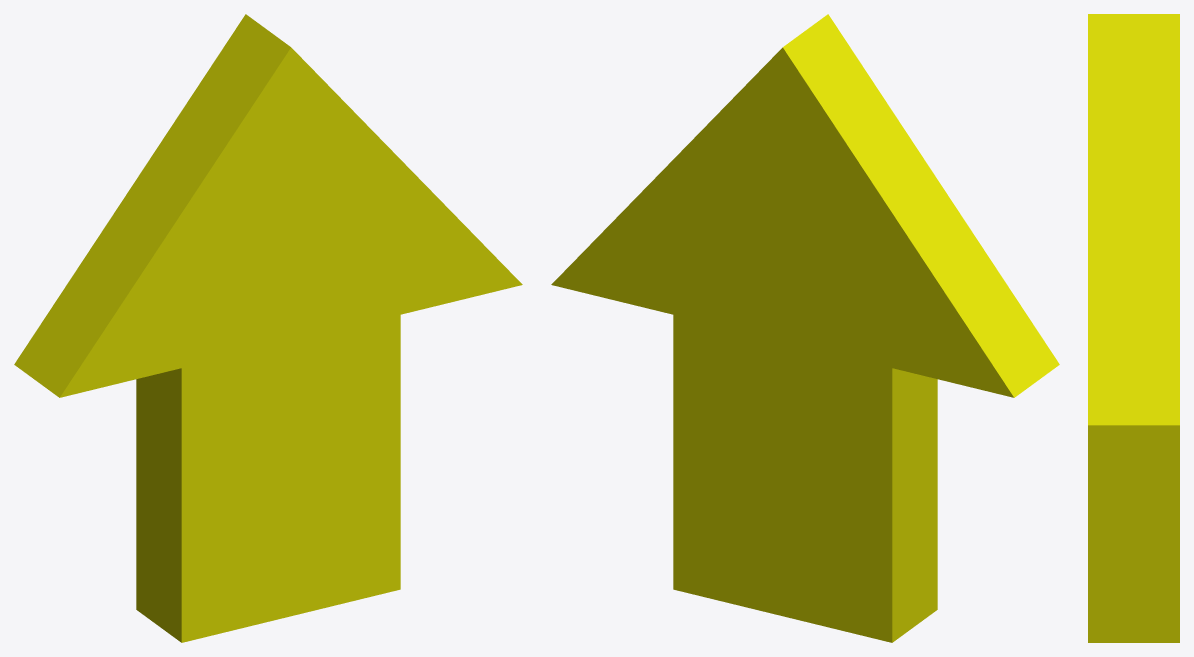
Rendered from SM_PolygonPrototype_Icon_Arrow_Small_01.glb.
The picture shows the model from 3 angles, left to right: view 1: azimuth 30°, elevation 25°; view 2: azimuth 150°, elevation 25°; view 3: azimuth 270°, elevation 25°; orthographic projection.
Visible parts, largest first — view 1: SM_PolygonPrototype_Icon_Arrow_Small_01; view 2: SM_PolygonPrototype_Icon_Arrow_Small_01; view 3: SM_PolygonPrototype_Icon_Arrow_Small_01.
Boxes of the visible parts, x1=… form: SM_PolygonPrototype_Icon_Arrow_Small_01: x1=14, y1=14, x2=522, y2=642; SM_PolygonPrototype_Icon_Arrow_Small_01: x1=551, y1=14, x2=1059, y2=642; SM_PolygonPrototype_Icon_Arrow_Small_01: x1=1088, y1=14, x2=1179, y2=642.
Size of the model in its own units: 0.4577 by 0.5371 by 0.0779.
1 material, 1 textured.
